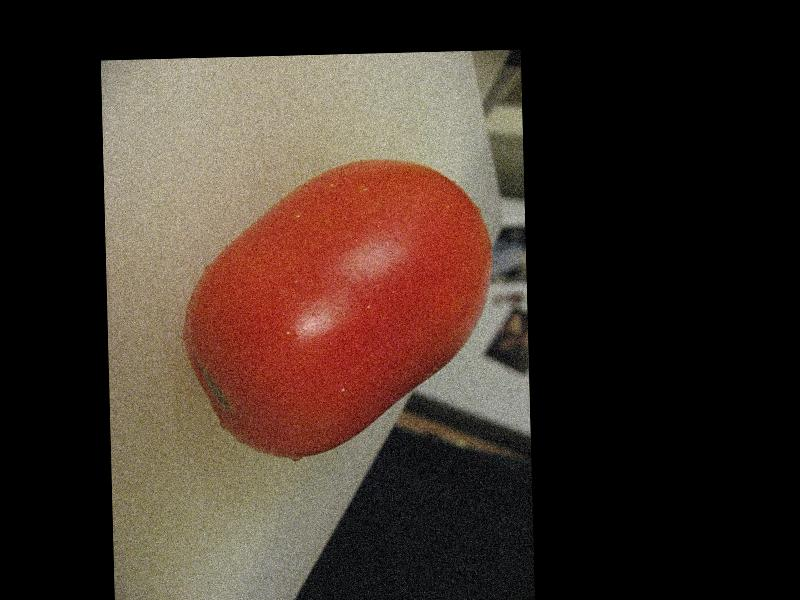Tomato: (181, 157, 498, 461)
